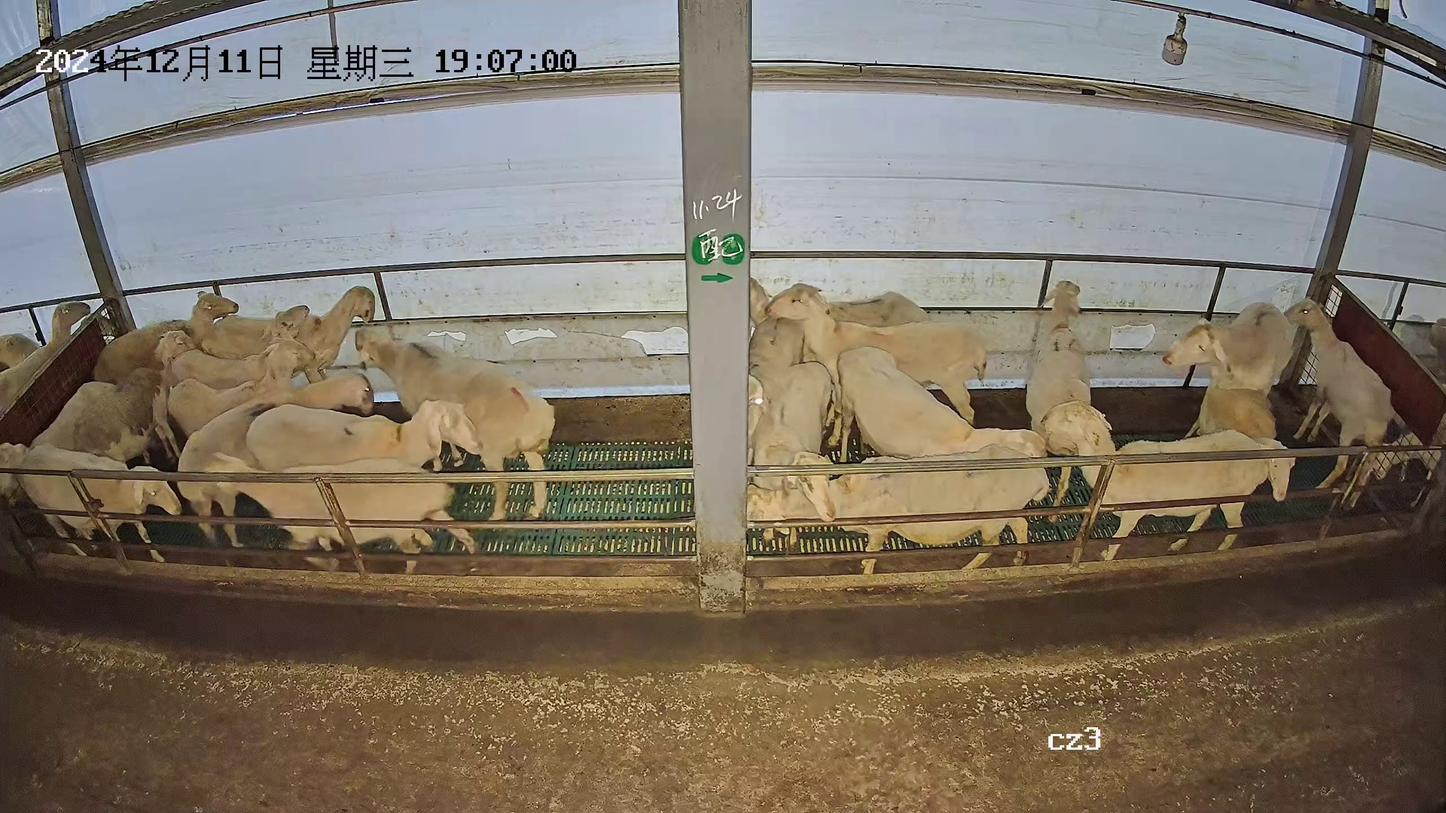Smounting: (1158, 300, 1302, 508)
mounted: (1196, 379, 1299, 505)
